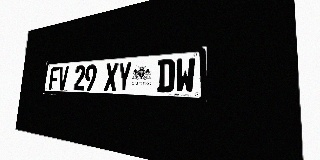2: (74, 65, 86, 90)
9: (84, 64, 97, 91)
D: (156, 59, 175, 93)
F: (49, 67, 59, 90)
V: (57, 66, 68, 90)
W: (175, 57, 195, 93)
X: (104, 63, 118, 91)
Y: (117, 62, 132, 92)
